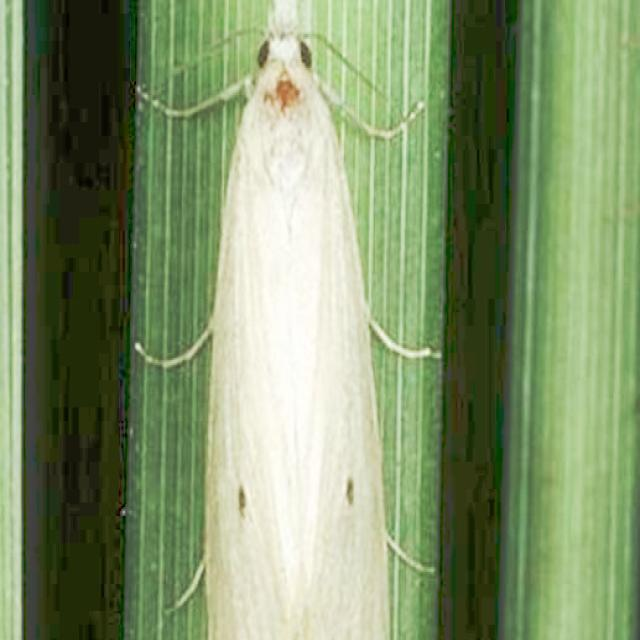stem-borer: (157, 0, 419, 640)
